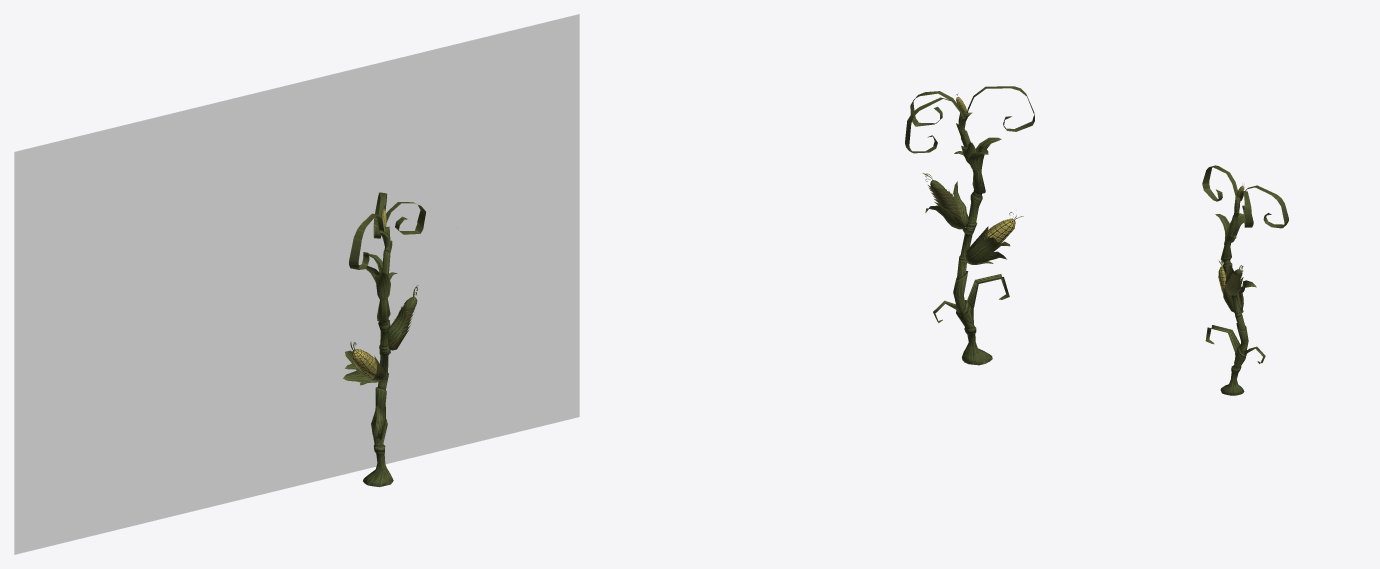
Rendered from mais.glb.
3 renders of one model, left to right at view 1: azimuth 30°, elevation 25°; view 2: azimuth 150°, elevation 25°; view 3: azimuth 270°, elevation 25°, orthographic. The views are drawn at different scales.
Parts seen in each view (by area): view 1: mesh_id1, mesh_id30; view 2: mesh_id30; view 3: mesh_id30.
Boxes of the visible parts, x1,y1,x2,y2 form: mesh_id1: (14,14,579,554); mesh_id30: (343,192,425,487); mesh_id30: (905,86,1034,365); mesh_id30: (1202,165,1288,395).
Bounding box in the file's own units: 2.23 × 1.52 × 0.7003.
Materials: 2 (2 with a texture image).
